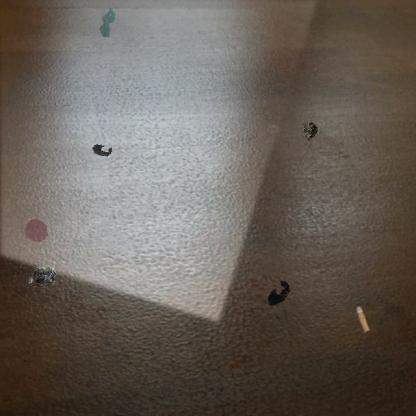dirty: (265, 277, 293, 309), (26, 263, 58, 289), (354, 304, 371, 334), (300, 118, 320, 142), (90, 142, 114, 158)
liquid: (23, 217, 50, 243), (98, 7, 118, 38)
